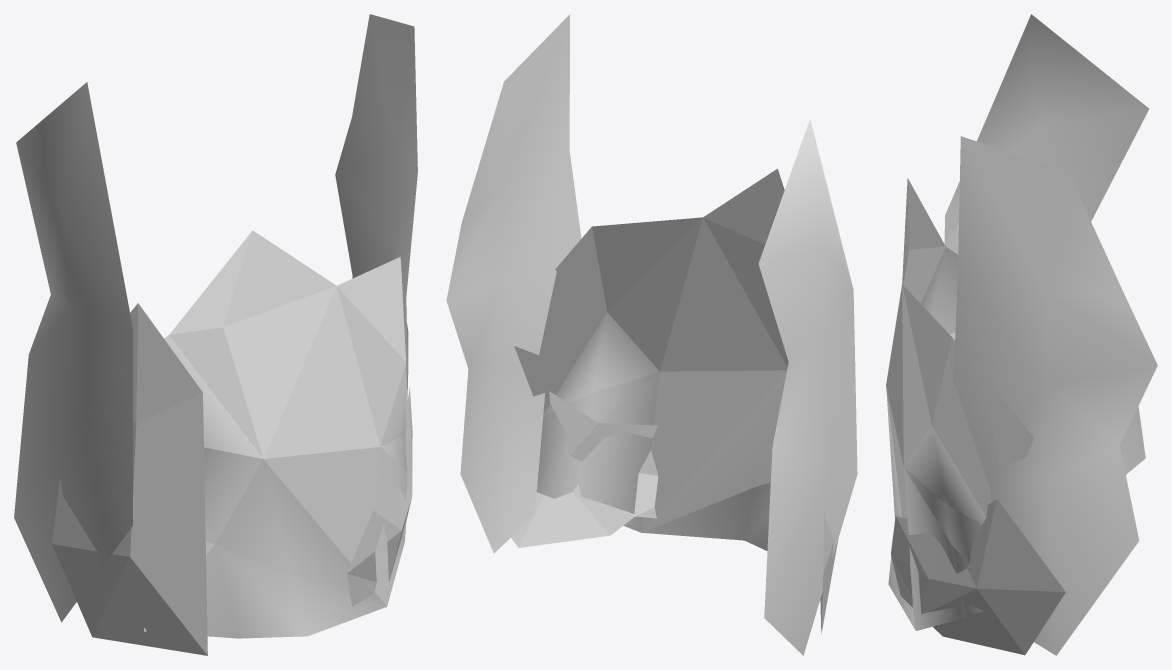
The model's file is SM_Env_Ivy_Pillar_03.glb.
3 views of the same model, side by side, from view 1: azimuth 30°, elevation 25°; view 2: azimuth 150°, elevation 25°; view 3: azimuth 270°, elevation 25° (orthographic). The views are drawn at different scales.
Parts seen in each view (by area): view 1: SM_Env_Ivy_Pillar_03; view 2: SM_Env_Ivy_Pillar_03; view 3: SM_Env_Ivy_Pillar_03.
Boxes of the visible parts, x1,y1,x2,y2 form: SM_Env_Ivy_Pillar_03: [14, 14, 417, 655]; SM_Env_Ivy_Pillar_03: [446, 14, 857, 655]; SM_Env_Ivy_Pillar_03: [886, 14, 1157, 655].
Bounding box in the file's own units: 1.6 × 2.34 × 1.09.
1 material, 1 textured.
